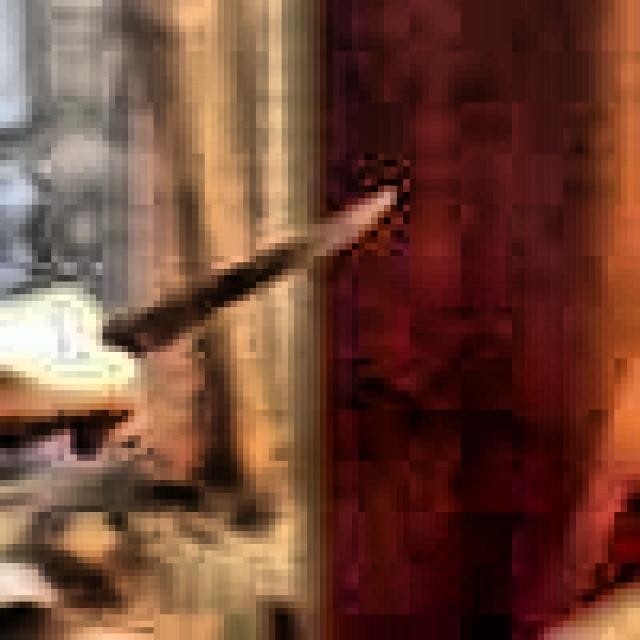knife: (104, 188, 395, 359)
